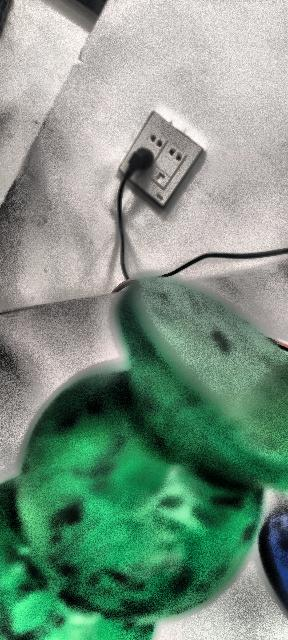blue: (1, 274, 286, 638)
